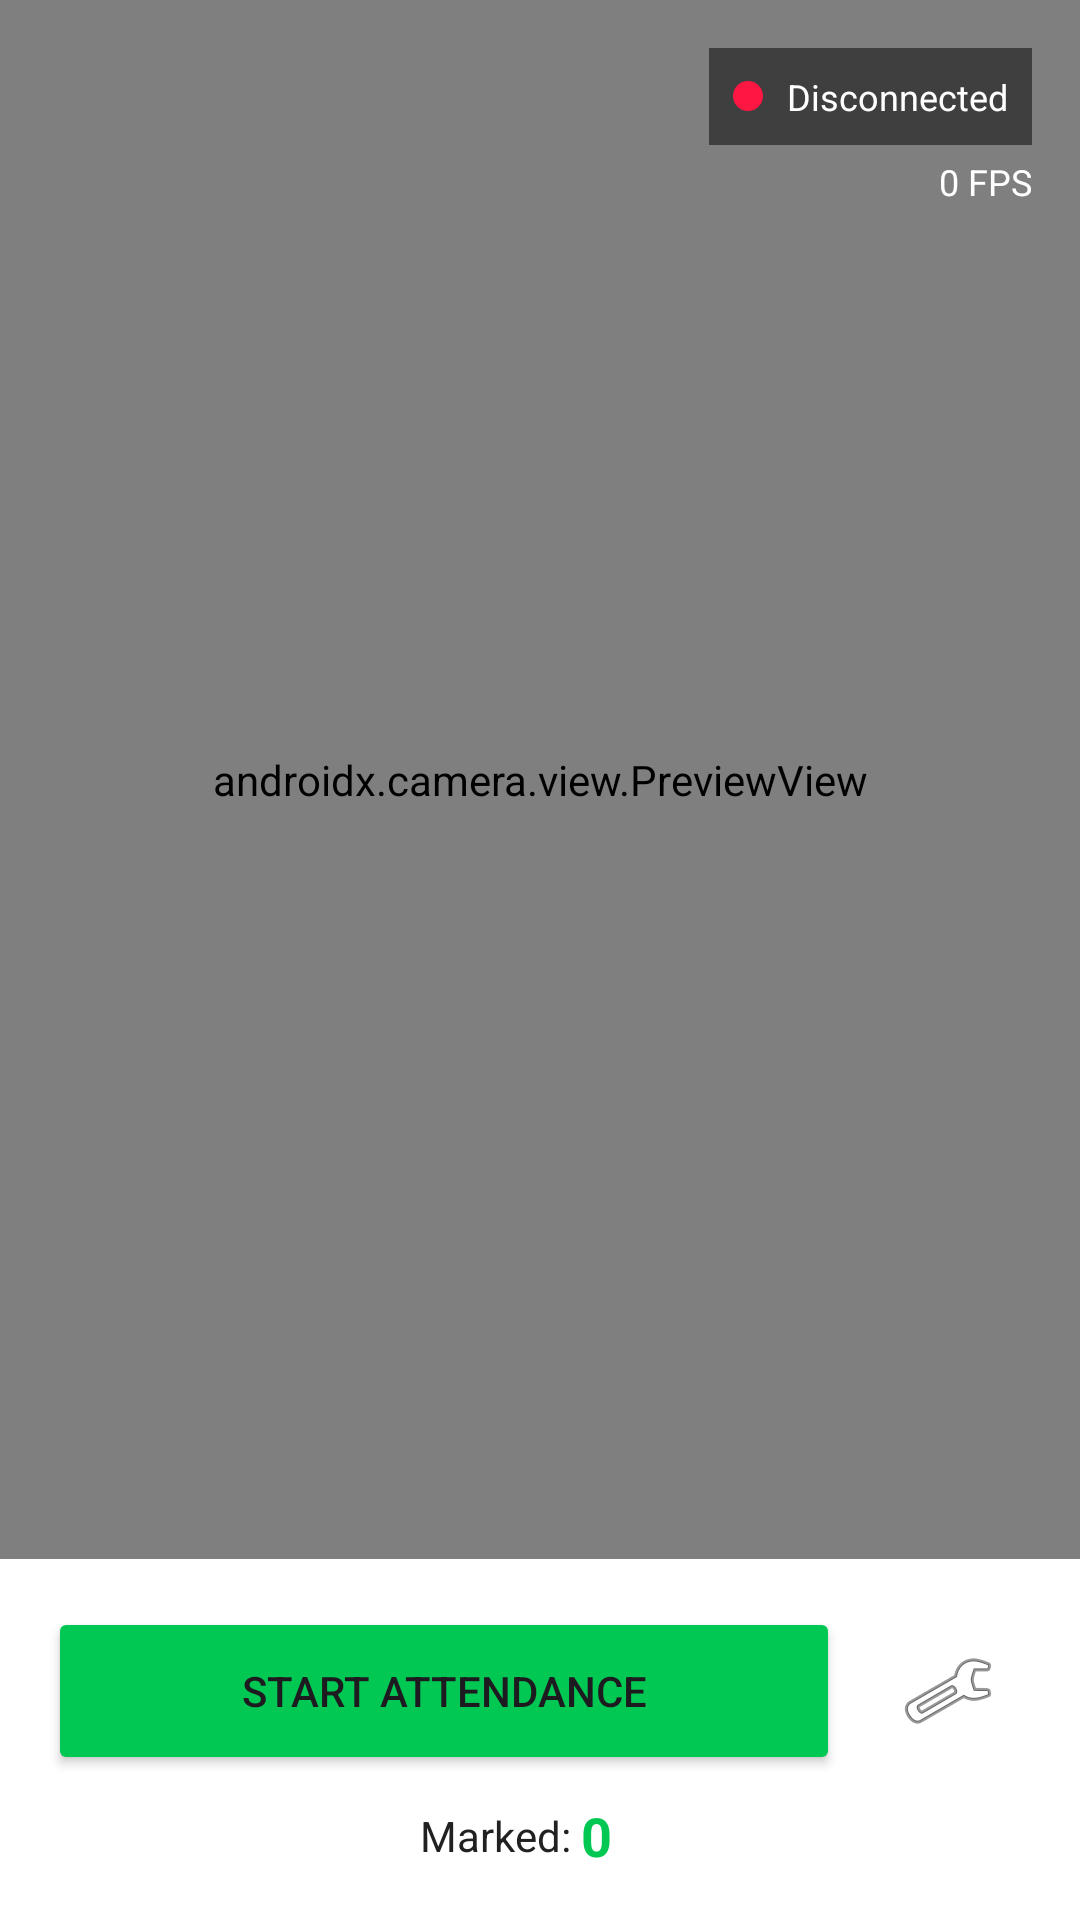

Where icons sit on this 1080 × 1920 app screen, as (x1, y1, x2, y2):
Settings: (905, 1658, 991, 1724)
